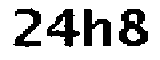2: (10, 6, 42, 51)
4: (45, 6, 79, 50)
8: (116, 5, 150, 52)
h: (82, 3, 113, 51)
